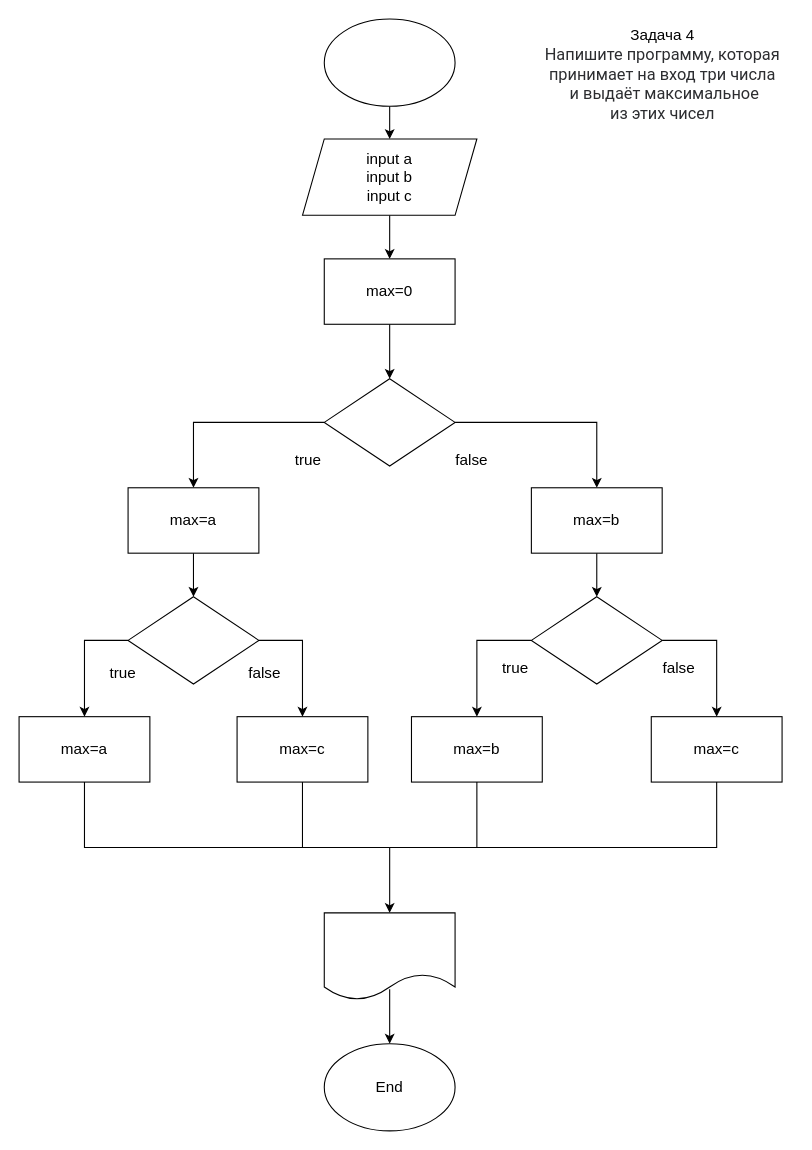
This 812x1150 diagram has some shape labels left out. The shapes that lost their labels are listed below. From the top down, each one's box as (x1, y1, x2, y2) in pixels, then its label:
(323, 18, 455, 106): Start
(323, 378, 455, 466): a>b
(127, 596, 259, 684): max>c
(530, 596, 662, 684): b>c
(323, 912, 455, 1000): print max
